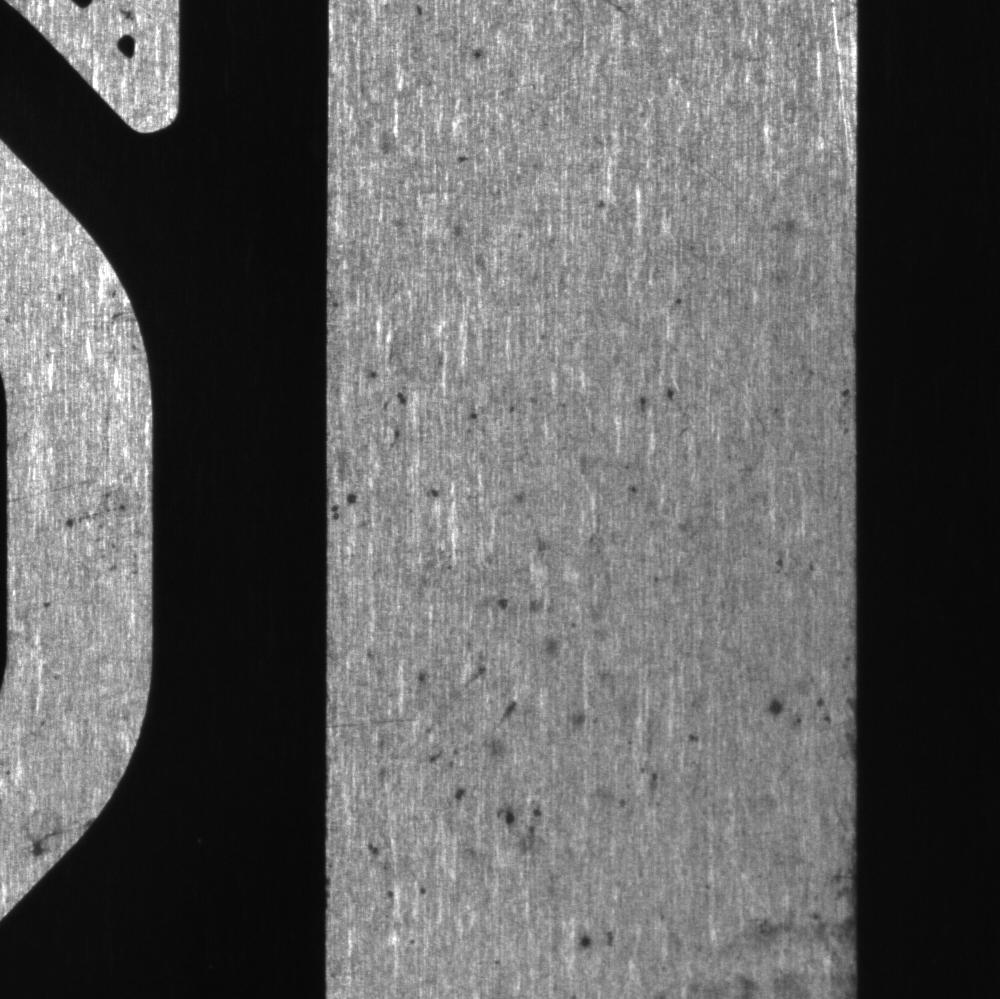Discolor: (741, 893, 856, 995)
Etching: (466, 588, 595, 733), (428, 752, 558, 852), (758, 664, 856, 773), (326, 475, 456, 524), (354, 359, 424, 446), (64, 500, 140, 573), (2, 801, 96, 859), (460, 396, 570, 423), (568, 916, 623, 960), (830, 366, 853, 445), (634, 379, 680, 418)
Pinhole: (662, 286, 693, 318), (465, 44, 491, 68)
Scar: (4, 471, 109, 506), (325, 707, 425, 738)
